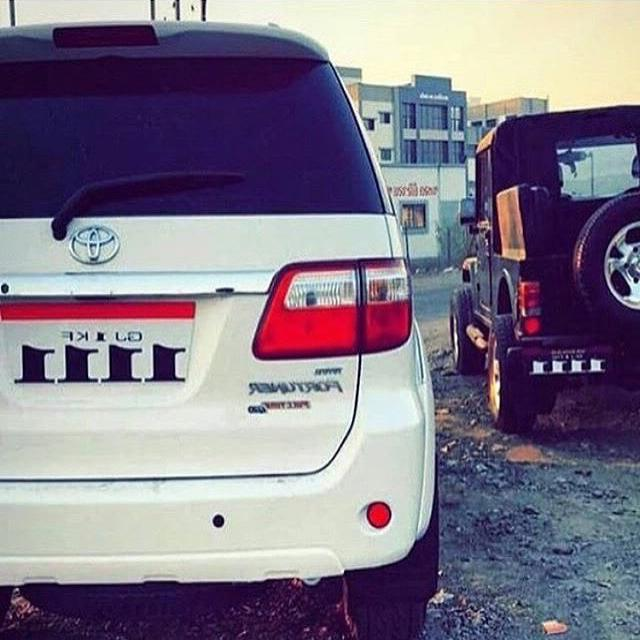number-plate: (3, 310, 220, 403)
